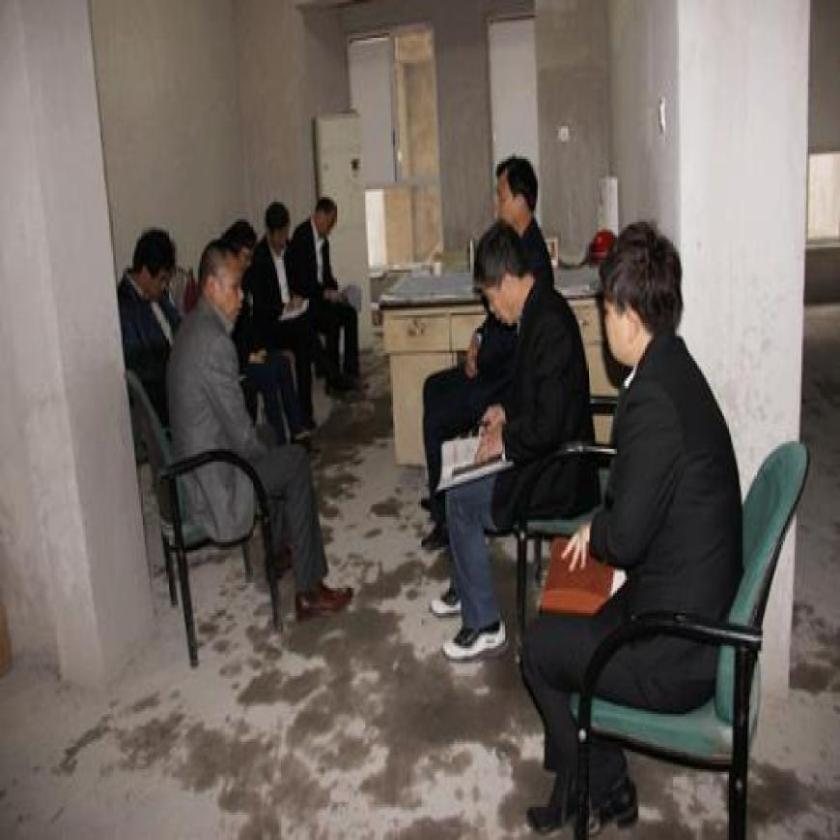Sin_casco: (595, 220, 684, 380), (473, 222, 532, 323), (200, 243, 243, 336), (492, 154, 541, 230), (137, 231, 175, 306), (225, 217, 256, 284), (264, 198, 292, 251), (314, 196, 340, 245)
